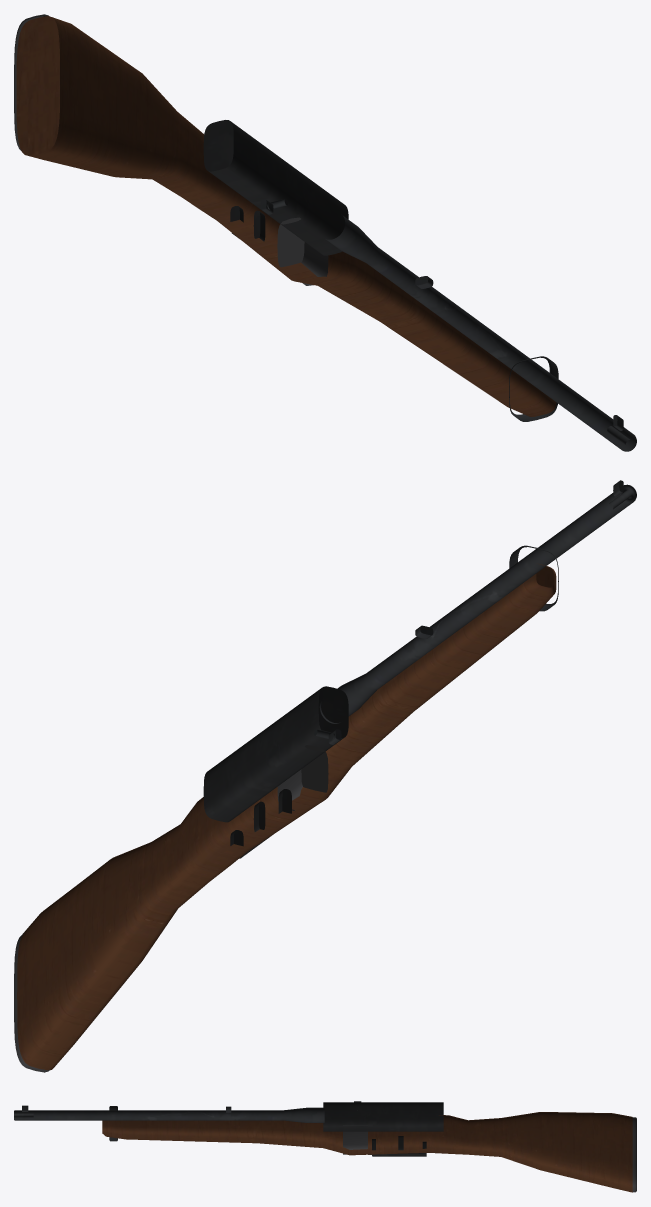
3 views of the same model, one above another, from view 1: azimuth 30°, elevation 25°; view 2: azimuth 150°, elevation 25°; view 3: azimuth 270°, elevation 25° (orthographic). The views are drawn at different scales.
Visible parts, largest first — view 1: body, mag; view 2: body, mag; view 3: body, mag.
Part boxes in pixels (x1,y1,x2,y2): body: [14, 14, 636, 451]; mag: [277, 217, 328, 285]; body: [14, 480, 636, 1072]; mag: [277, 745, 328, 810]; body: [14, 1102, 636, 1192]; mag: [343, 1125, 372, 1154].
Bounding box in the file's own units: 0.055 × 0.145 × 0.9465.
4 materials, 3 textured.
